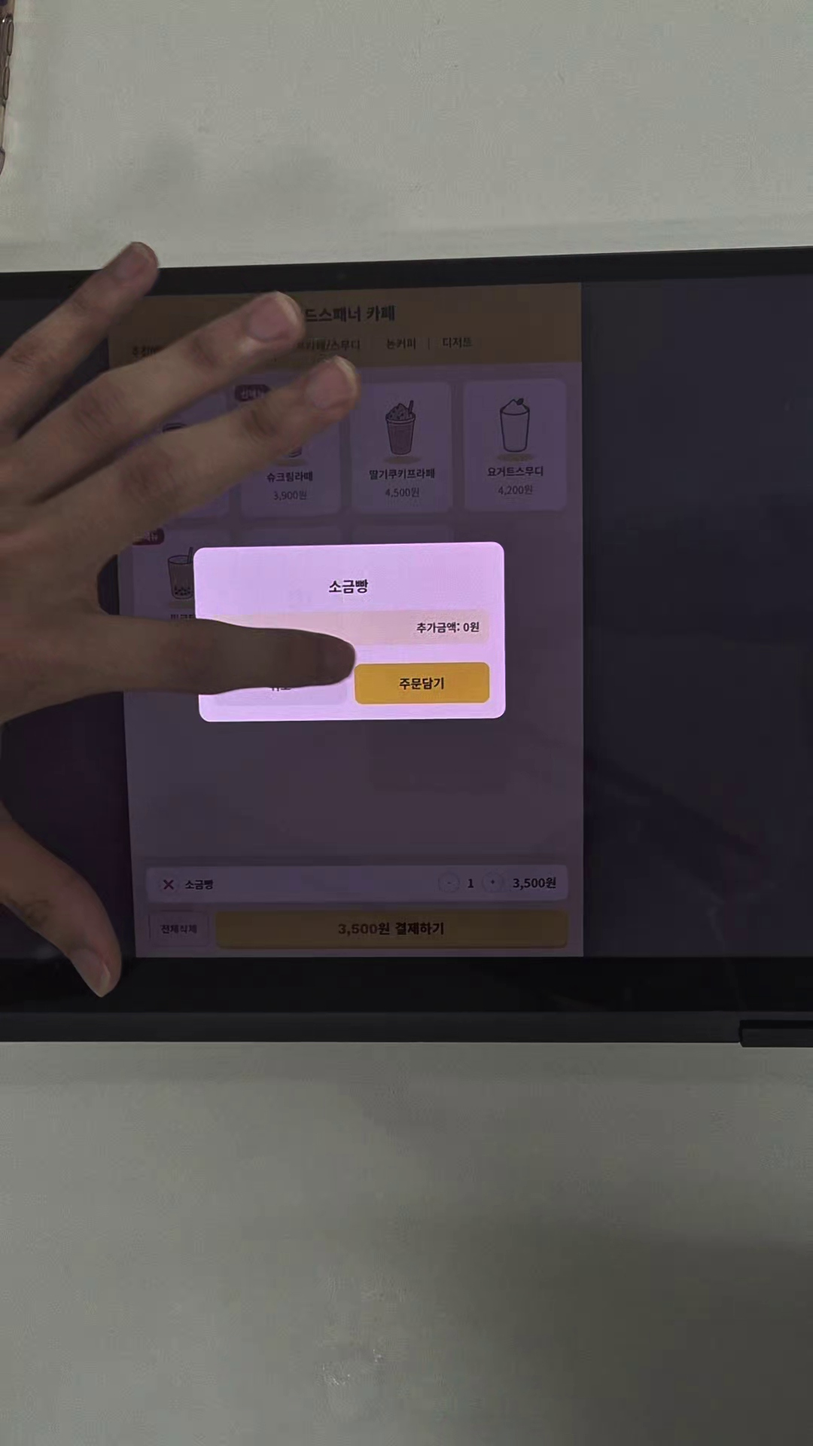action_button: (357, 662, 491, 708), (214, 668, 340, 710)
popup_modal: (191, 544, 506, 719)
